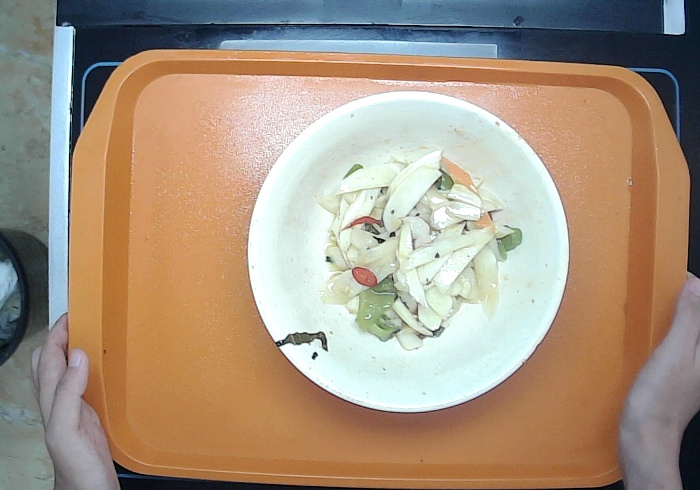ZNLD-Da_Tang_Wan: (246, 89, 570, 415)
